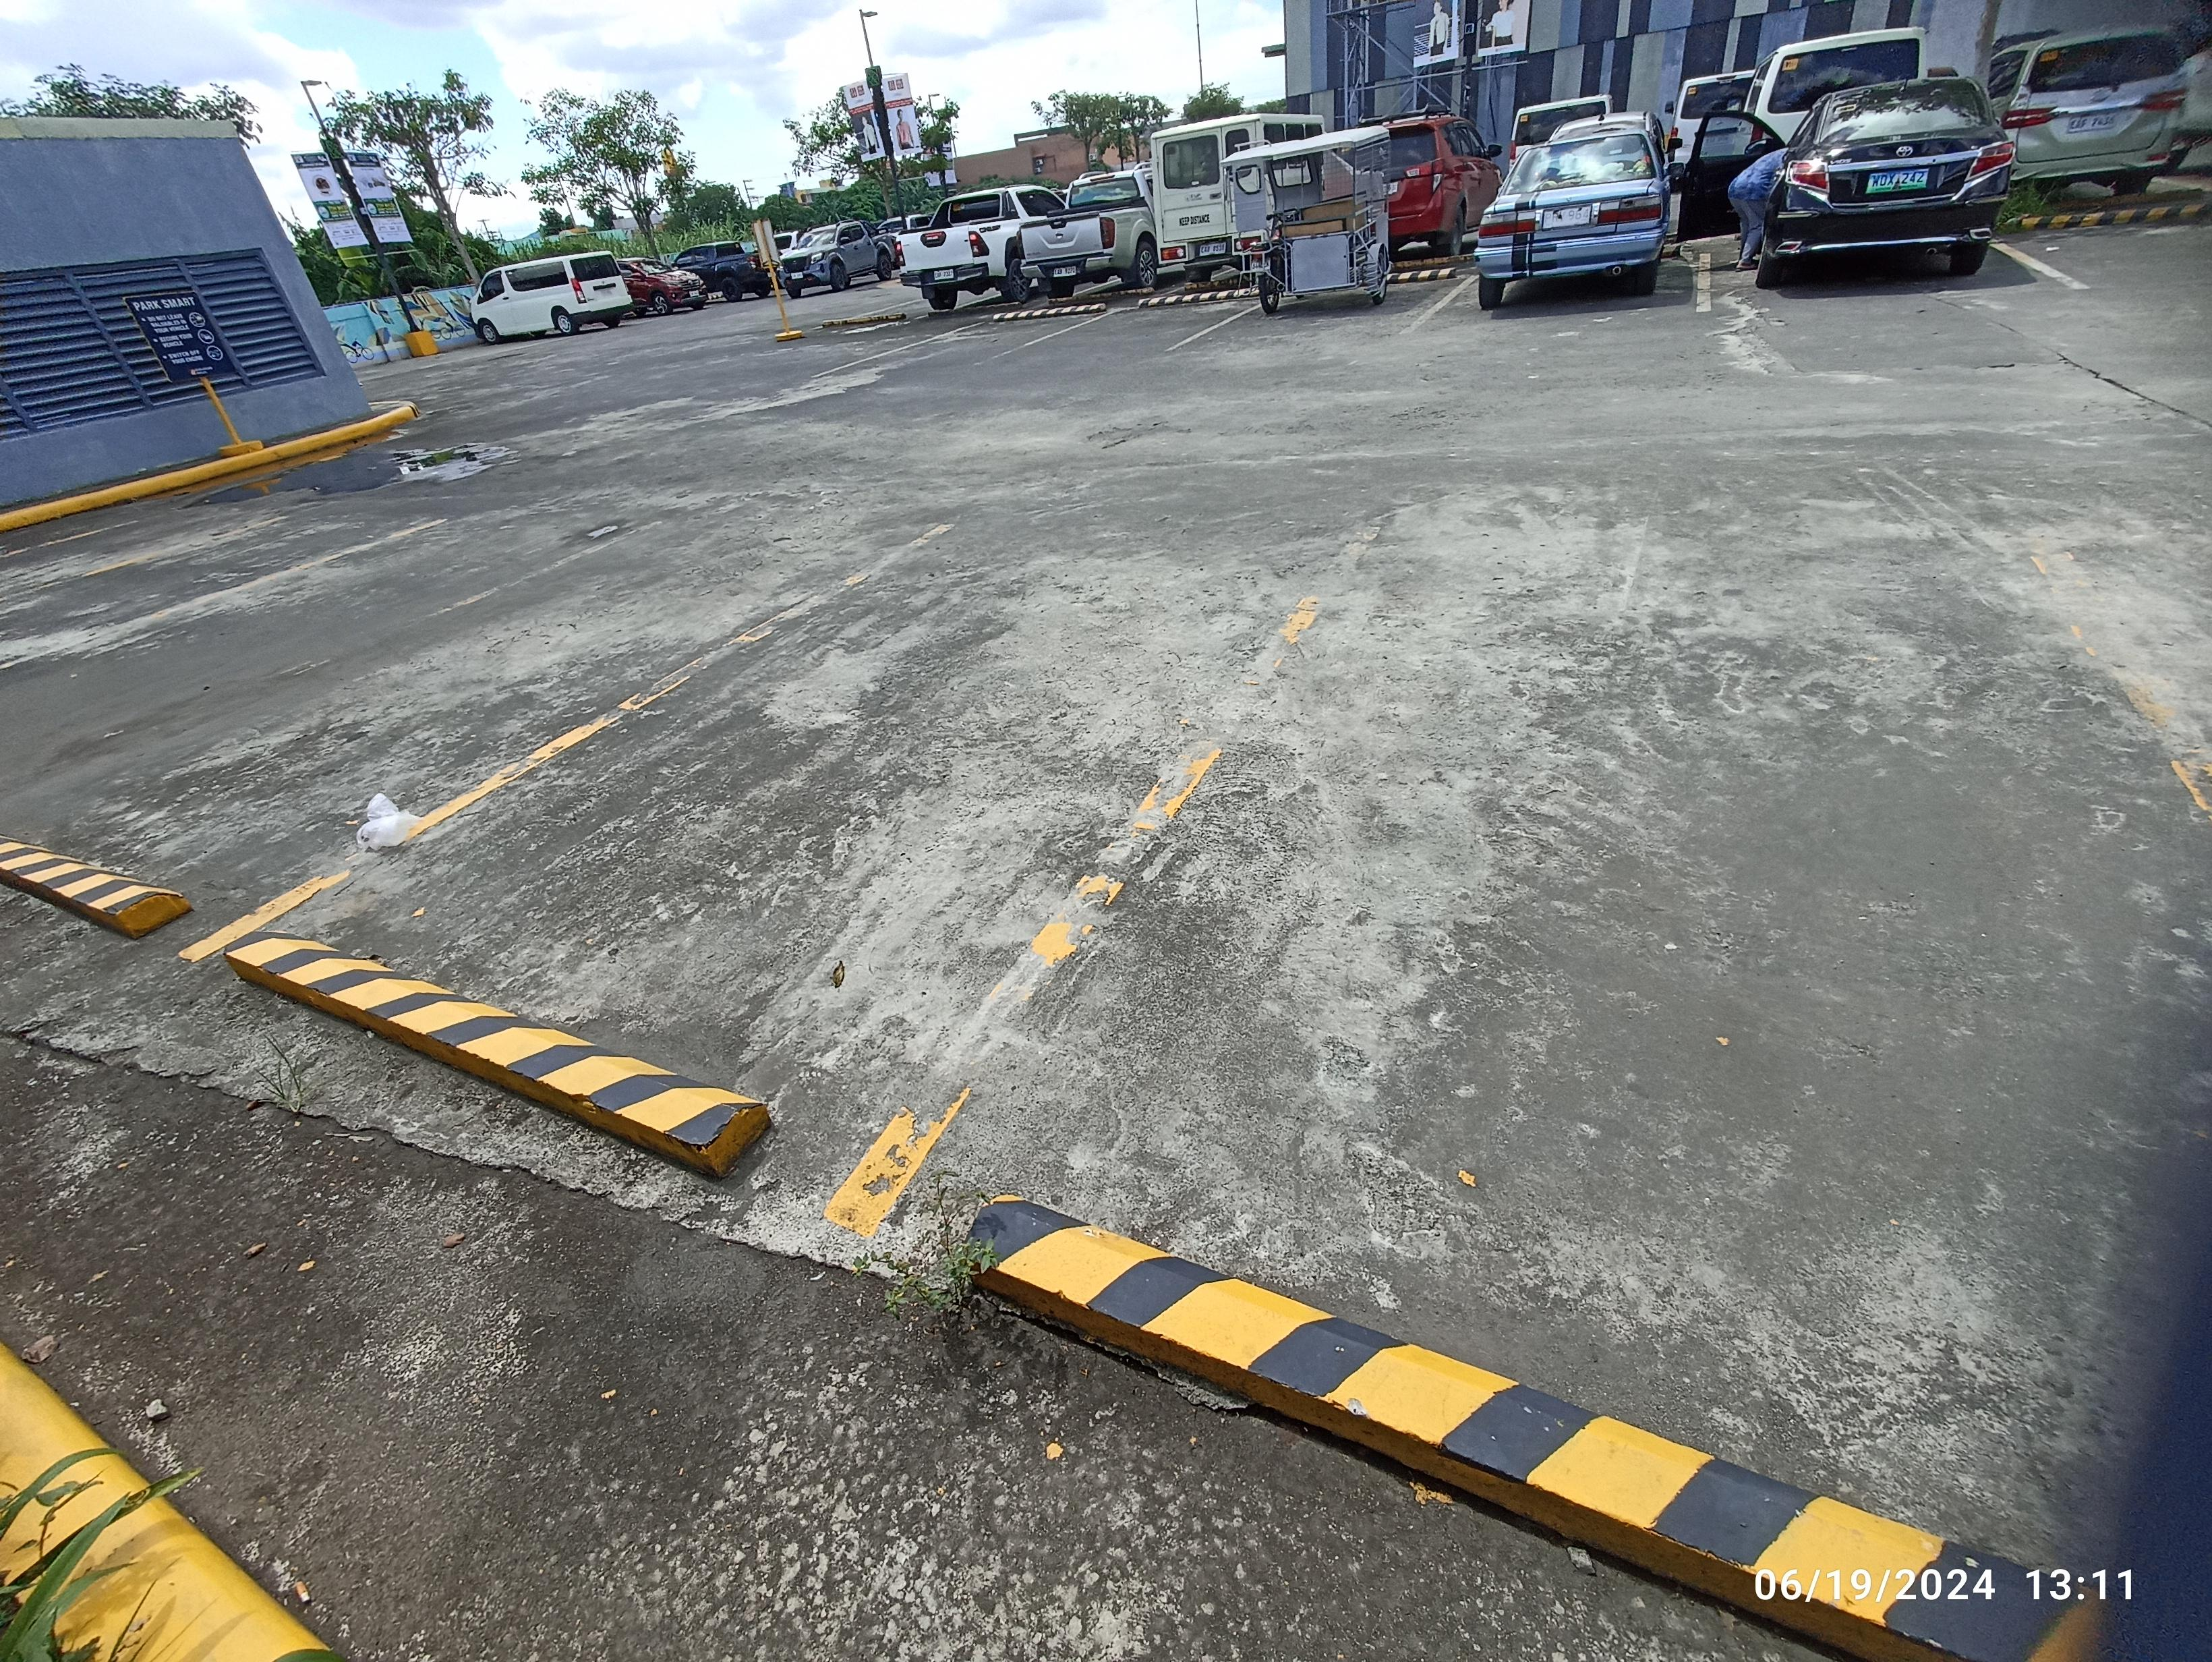occupied: (1697, 237, 2092, 309), (1400, 250, 1713, 333), (1163, 271, 1484, 351)
vacant: (166, 519, 1334, 1243)
